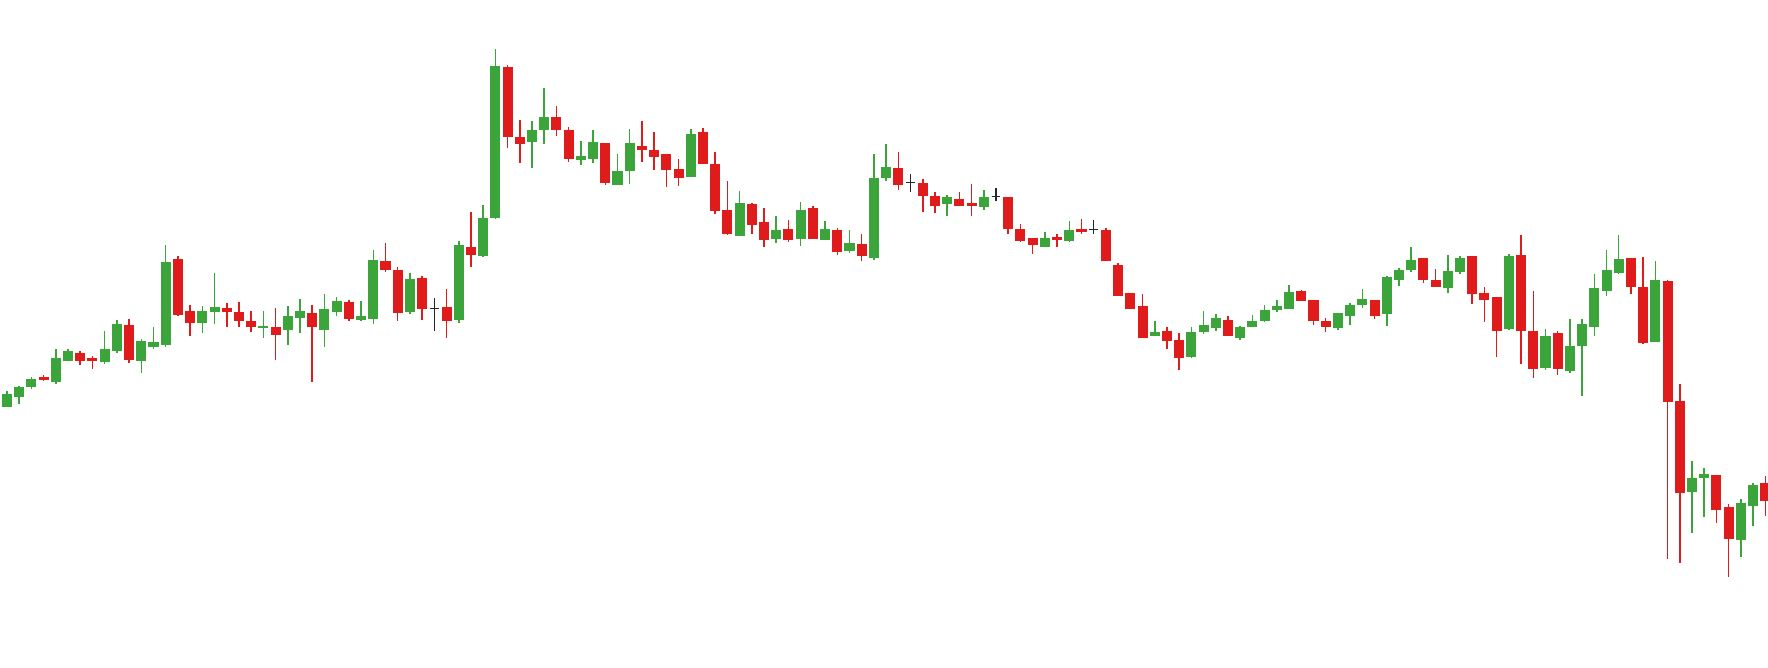sell: (1503, 231, 1638, 339)
